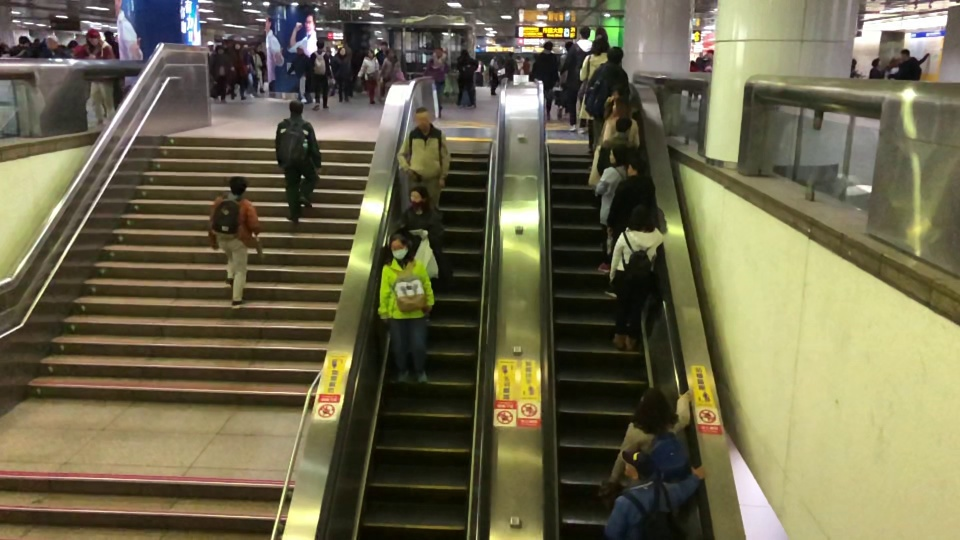person_head: (635, 386, 671, 424), (619, 447, 655, 482), (627, 201, 656, 234), (388, 233, 410, 261), (407, 186, 429, 212), (392, 225, 415, 249), (610, 83, 630, 110), (608, 143, 629, 168), (610, 97, 632, 119), (413, 106, 432, 130), (612, 115, 633, 136), (229, 174, 248, 196), (624, 158, 646, 176), (286, 99, 305, 117), (605, 45, 624, 63), (84, 26, 101, 46), (589, 38, 608, 55), (578, 25, 592, 41), (44, 34, 58, 49), (17, 34, 30, 48), (898, 48, 911, 62), (563, 40, 574, 54), (889, 56, 901, 67), (542, 40, 553, 51), (433, 46, 443, 58), (214, 44, 225, 54), (386, 47, 396, 58), (459, 47, 469, 58), (871, 57, 882, 67), (316, 38, 325, 50), (232, 41, 242, 51), (295, 44, 304, 55), (380, 40, 388, 51), (338, 46, 346, 56), (368, 47, 375, 58), (494, 54, 500, 61)
person_vbox: (603, 449, 708, 540), (606, 385, 695, 487), (376, 232, 435, 383), (605, 204, 665, 350), (399, 184, 454, 326), (602, 157, 655, 298), (206, 175, 263, 306), (271, 99, 322, 223), (584, 46, 630, 173), (396, 105, 449, 210), (586, 98, 640, 190), (595, 143, 630, 272), (589, 86, 645, 166), (72, 27, 117, 125), (558, 26, 593, 136), (578, 37, 609, 153), (6, 33, 40, 136), (594, 116, 640, 178), (529, 40, 559, 121), (40, 35, 72, 102), (422, 47, 449, 119), (307, 38, 333, 110), (554, 41, 575, 121), (453, 49, 479, 110), (287, 45, 313, 103), (225, 40, 250, 100), (376, 48, 405, 98), (356, 46, 380, 104), (887, 48, 930, 80), (208, 45, 229, 105), (330, 46, 351, 103), (373, 40, 389, 104), (489, 54, 500, 96), (868, 55, 886, 80), (883, 58, 902, 79)
